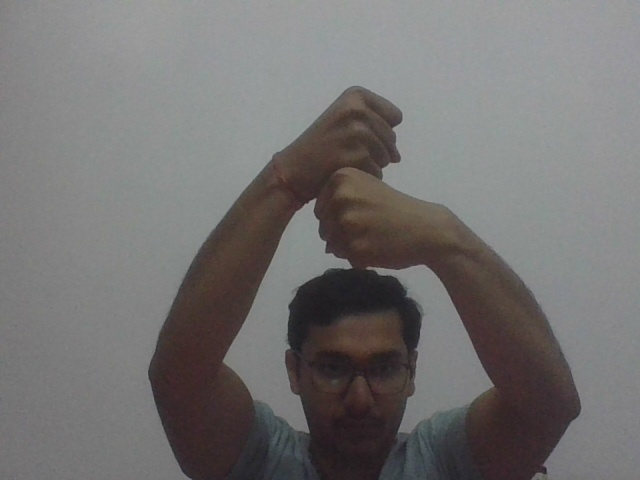G: (305, 80, 438, 271)
